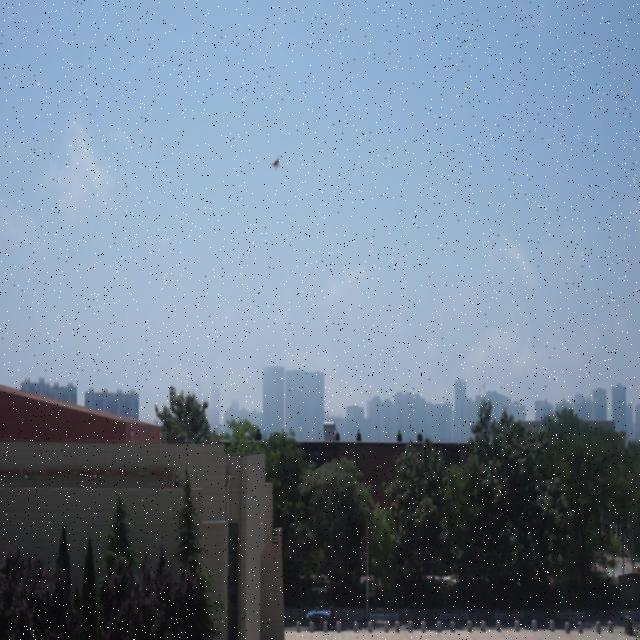UAV: (270, 155, 282, 171)
